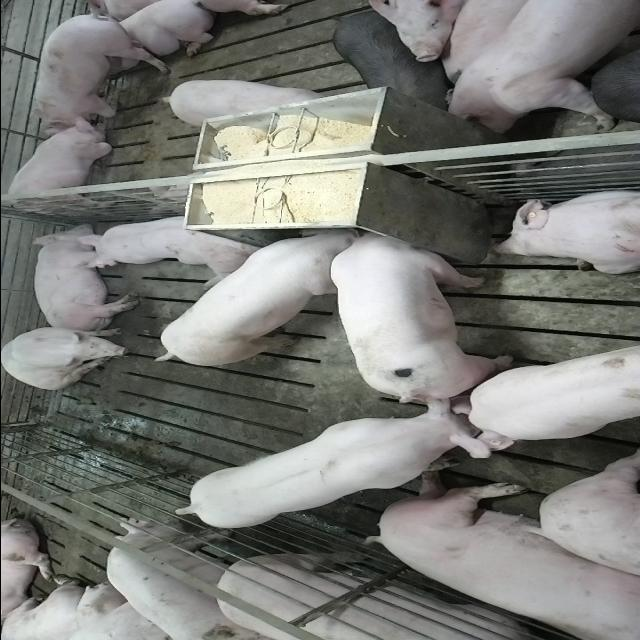Feeding: (328, 220, 514, 397), (145, 230, 359, 370)
Lateral_lying: (28, 223, 140, 333)
Sitting: (0, 122, 124, 218), (2, 326, 138, 390)
Standing: (172, 394, 500, 530), (207, 550, 602, 640), (444, 1, 640, 134), (466, 341, 640, 453), (101, 522, 255, 640), (28, 13, 166, 131), (330, 12, 441, 104), (156, 76, 326, 126)
Sternal_lying: (490, 186, 640, 274), (74, 212, 258, 282), (82, 1, 212, 76)
